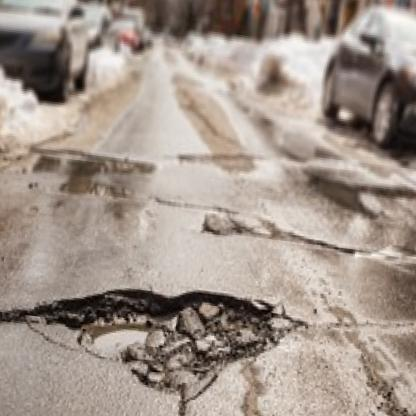pothole: (27, 268, 304, 405)
